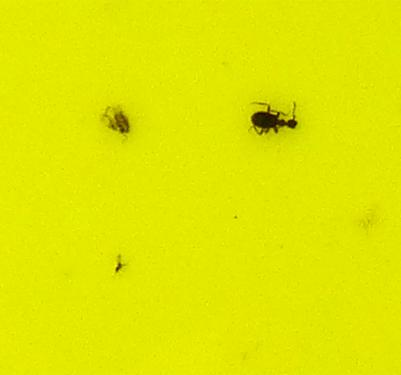Coleoptera: (249, 100, 301, 138)
Hymenoptera: (112, 259, 124, 275)
Nematocera: (100, 106, 135, 138)
